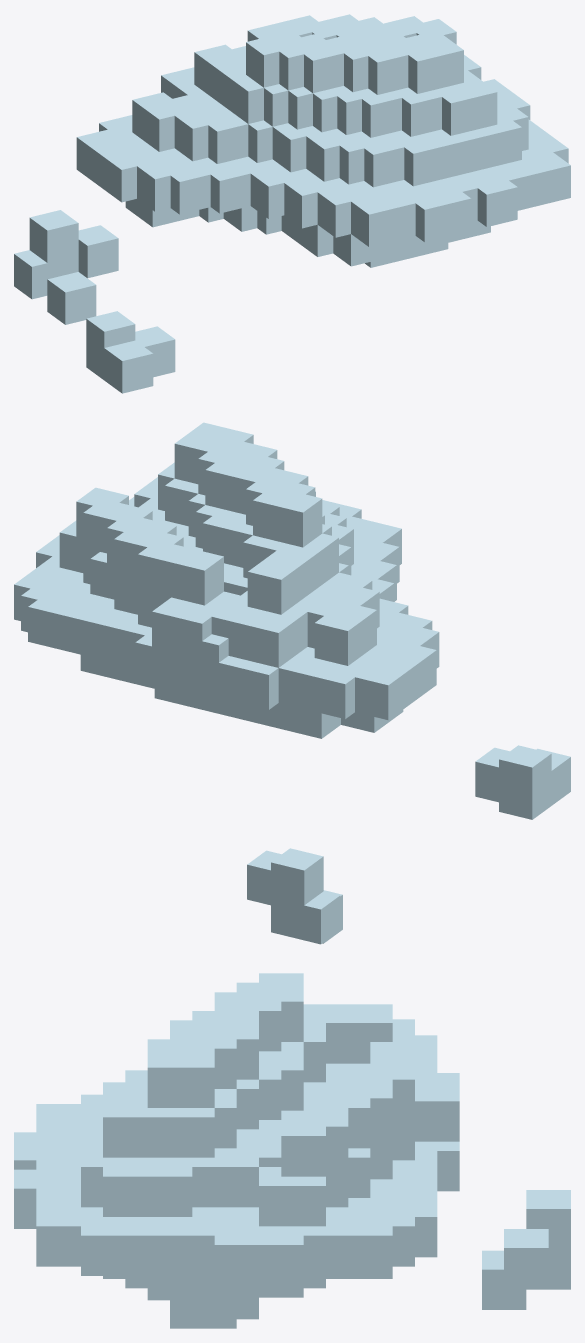
File: Menu_Cloud_02.obj
3 views of the same model, one above another, from view 1: azimuth 30°, elevation 25°; view 2: azimuth 150°, elevation 25°; view 3: azimuth 270°, elevation 25° (orthographic). The views are drawn at different scales.
Bounding box in the file's own units: 28 × 19 × 25.
Materials: 1 (1 with a texture image).
